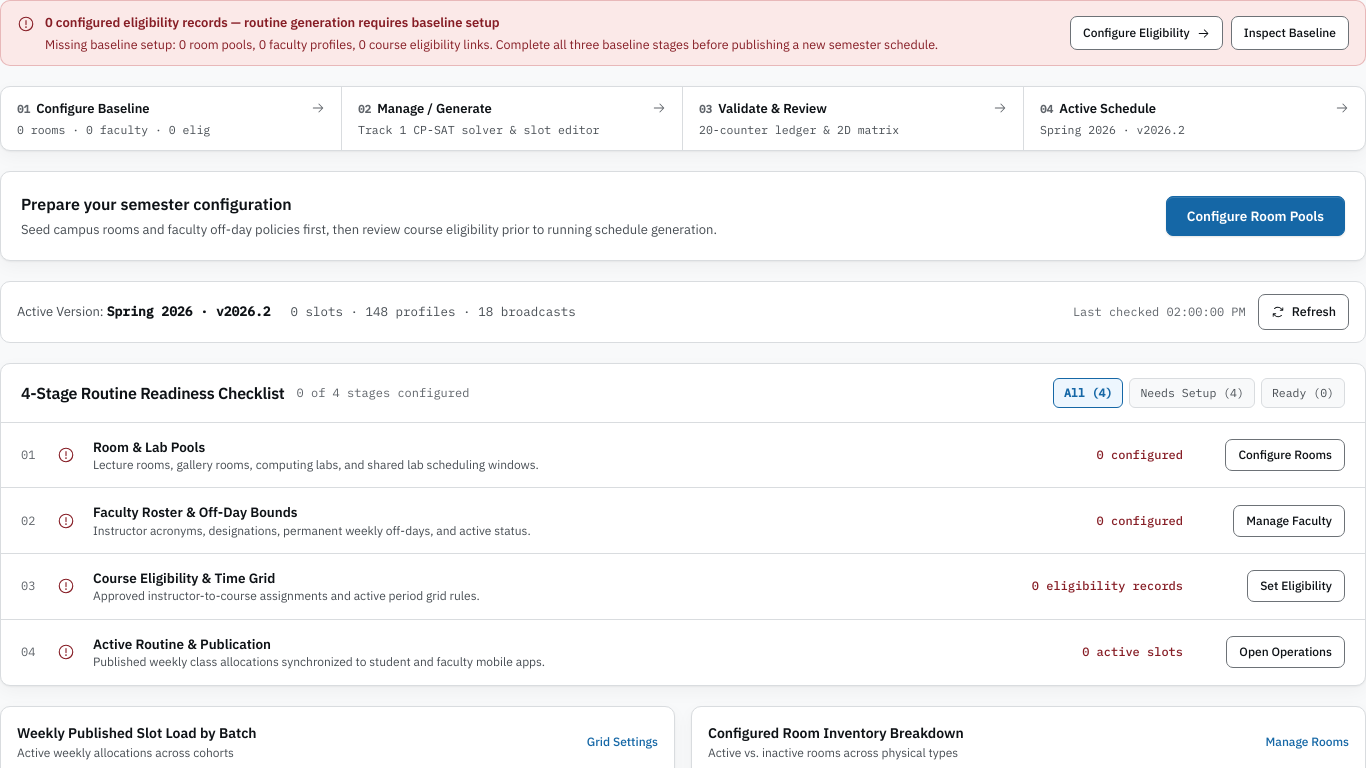
Test case: Backend-derived AdminDashboardView (Phase 1A honesty & async states) › handles filter-empty state with upfront filter counts and 1-click reset
This screenshot has width=1366, height=768.
Later steps or results of the test are not shown.
Click the button "Ready (0)": [1303, 392] box [1261,378,1345,408]
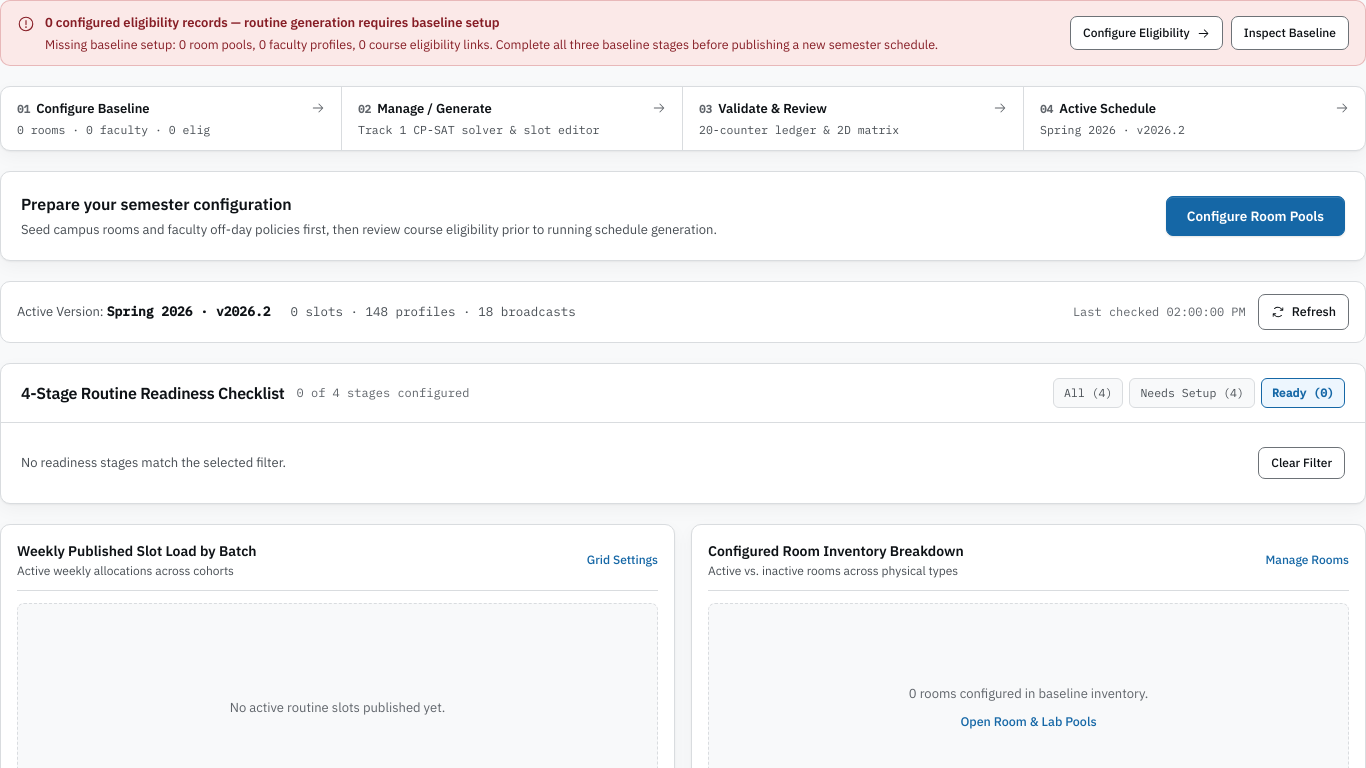
Check: the element with test id "readiness-filter-empty" is shown, box [21,446,1345,478]
